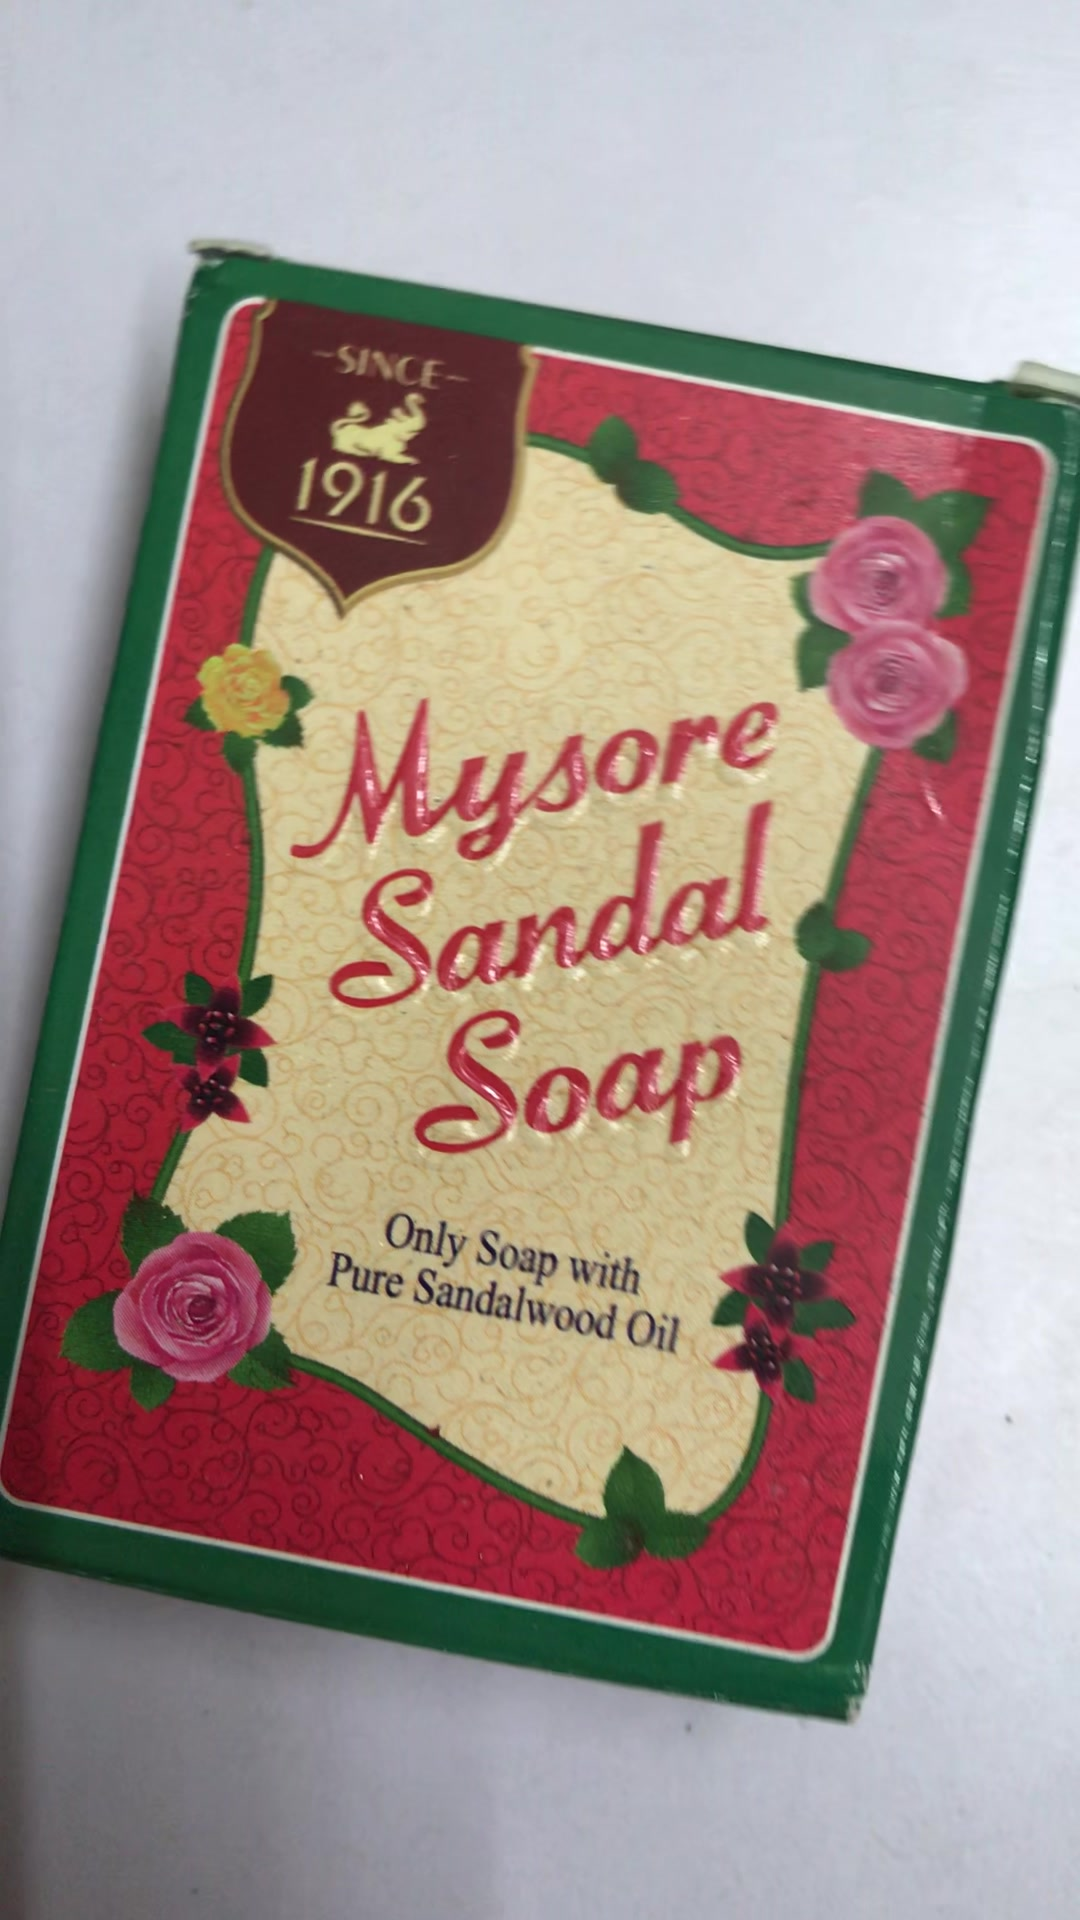mysore sandal soap: (3, 248, 1080, 1720)
